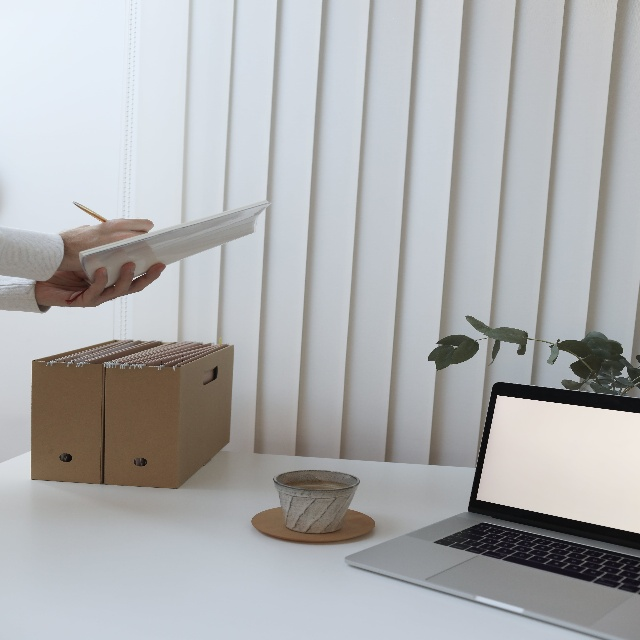Sin_guantes: (34, 263, 166, 309), (56, 218, 154, 272)
